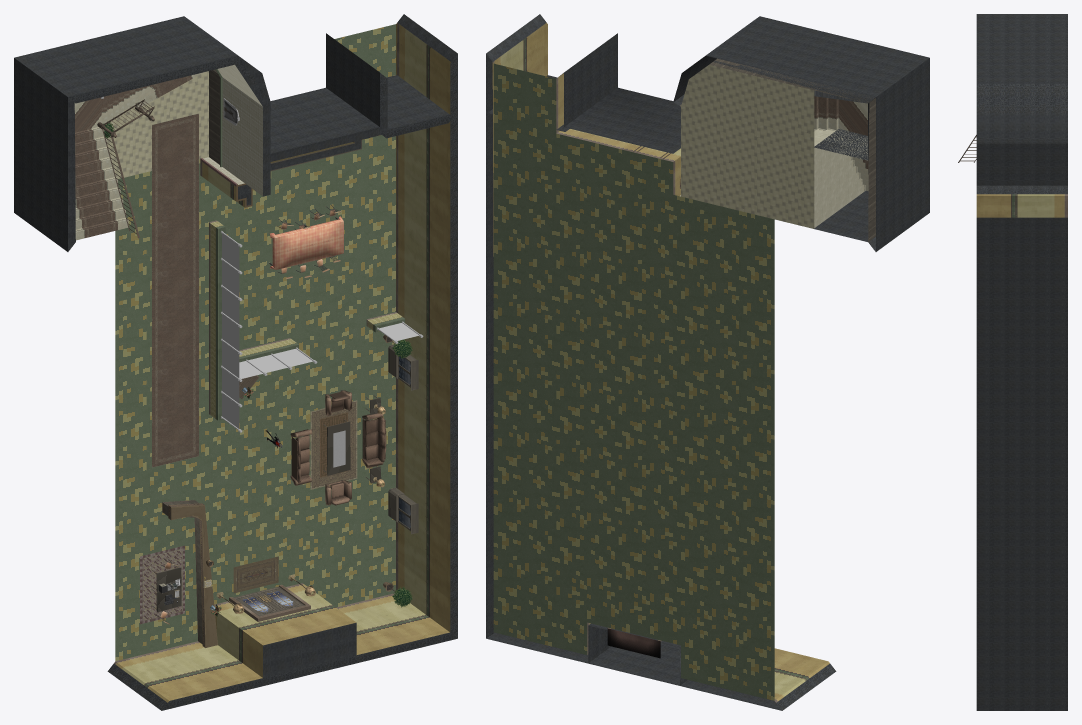
The model's file is iwatodai_dorm_floor_1.obj.
3 renders of one model, left to right at view 1: azimuth 30°, elevation 25°; view 2: azimuth 150°, elevation 25°; view 3: azimuth 270°, elevation 25°, orthographic. The views are drawn at different scales.
Parts seen in each view (by area): view 1: Atomic24.001_meshId80_name.001, Atomic4.005_meshId41_name.001, Atomic24.013_meshId92_name.001, Atomic5_meshId45_name.001, Atomic6.004_meshId55_name.001, Atomic3.003_meshId29_name.001, Atomic0.002_meshId2_name.001, Atomic24.004_meshId83_name.001, Atomic6_meshId51_name.001, TileFloor_meshId81_name.001, Atomic7.001_meshId57_name.002, Atomic4_meshId36_name.001 (+22 smaller); view 2: Atomic24.001_meshId80_name.001, TileFloor_meshId81_name.001, Atomic3.003_meshId29_name.001, Atomic5_meshId45_name.001, Atomic0.002_meshId2_name.001, Atomic6_meshId51_name.001, Atomic4_meshId36_name.001, Atomic3.006_meshId32_name.001, Atomic9.003_meshId63_name.001, Atomic4.005_meshId41_name.001, Atomic9.001_meshId61_name.001, Atomic0_meshId0_name.001 (+6 smaller); view 3: Atomic4_meshId36_name.001, Atomic5_meshId45_name.001, Atomic0.002_meshId2_name.001, Atomic0_meshId0_name.001, Atomic0.003_meshId3_name.001, Atomic1.001_meshId16_name.001.
Part boxes in pixels (x1,y1,x2,y2): Atomic24.001_meshId80_name.001: (115, 24, 395, 661); Atomic4.005_meshId41_name.001: (396, 22, 450, 599); Atomic24.013_meshId92_name.001: (152, 113, 198, 467); Atomic5_meshId45_name.001: (14, 16, 270, 106); Atomic6.004_meshId55_name.001: (147, 583, 418, 693); Atomic3.003_meshId29_name.001: (14, 58, 75, 251); Atomic0.002_meshId2_name.001: (263, 33, 387, 196); Atomic24.004_meshId83_name.001: (162, 158, 404, 647); Atomic6_meshId51_name.001: (162, 622, 457, 710); TileFloor_meshId81_name.001: (106, 71, 208, 178); Atomic7.001_meshId57_name.002: (222, 233, 418, 428); Atomic4_meshId36_name.001: (450, 54, 457, 638); Atomic24.001_meshId80_name.001: (493, 63, 774, 700); TileFloor_meshId81_name.001: (681, 64, 814, 228); Atomic3.003_meshId29_name.001: (814, 58, 929, 251); Atomic5_meshId45_name.001: (673, 16, 929, 101); Atomic0.002_meshId2_name.001: (564, 33, 680, 153); Atomic6_meshId51_name.001: (486, 623, 781, 710); Atomic4_meshId36_name.001: (486, 54, 493, 638); Atomic3.006_meshId32_name.001: (814, 130, 867, 227); Atomic9.003_meshId63_name.001: (713, 60, 875, 160); Atomic4.005_meshId41_name.001: (492, 22, 547, 256); Atomic9.001_meshId61_name.001: (814, 96, 867, 135); Atomic0_meshId0_name.001: (556, 73, 680, 194); Atomic4_meshId36_name.001: (976, 217, 1067, 710); Atomic5_meshId45_name.001: (976, 14, 1067, 143); Atomic0.002_meshId2_name.001: (976, 143, 1067, 185); Atomic0_meshId0_name.001: (976, 194, 1067, 217); Atomic0.003_meshId3_name.001: (976, 185, 1067, 194); Atomic1.001_meshId16_name.001: (977, 185, 1067, 194).
Size of the model in its own units: 2500 by 3900 by 723.
